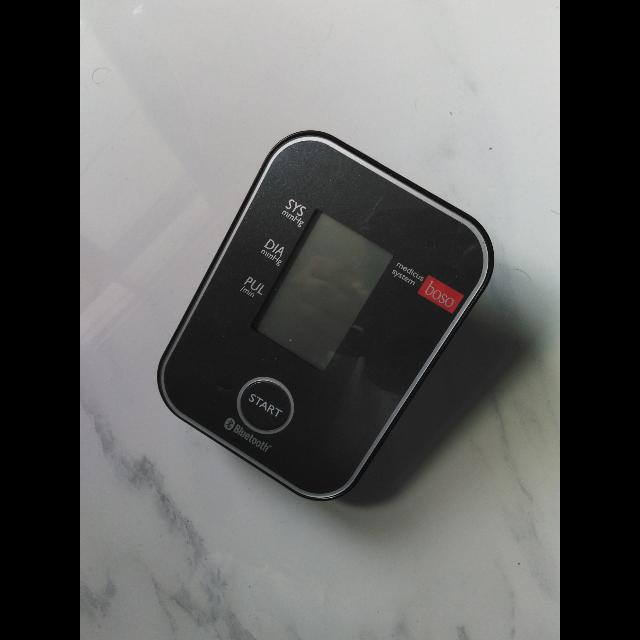Blood-Pressure-Monitor: (138, 99, 560, 511)
